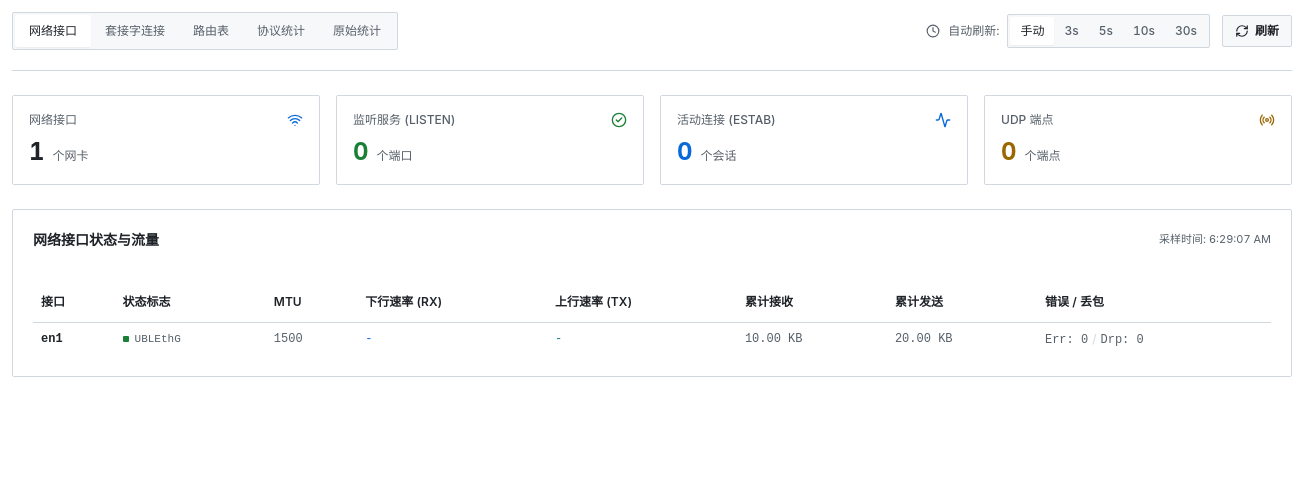
Scenario: NetworkView Component › filters sockets between LISTEN and connected via segmented buttons
What coordinates should you click on to do the following:
click the button "套接字连接"
I would click on:
 (135, 31)
Its box is [91,15,179,47].
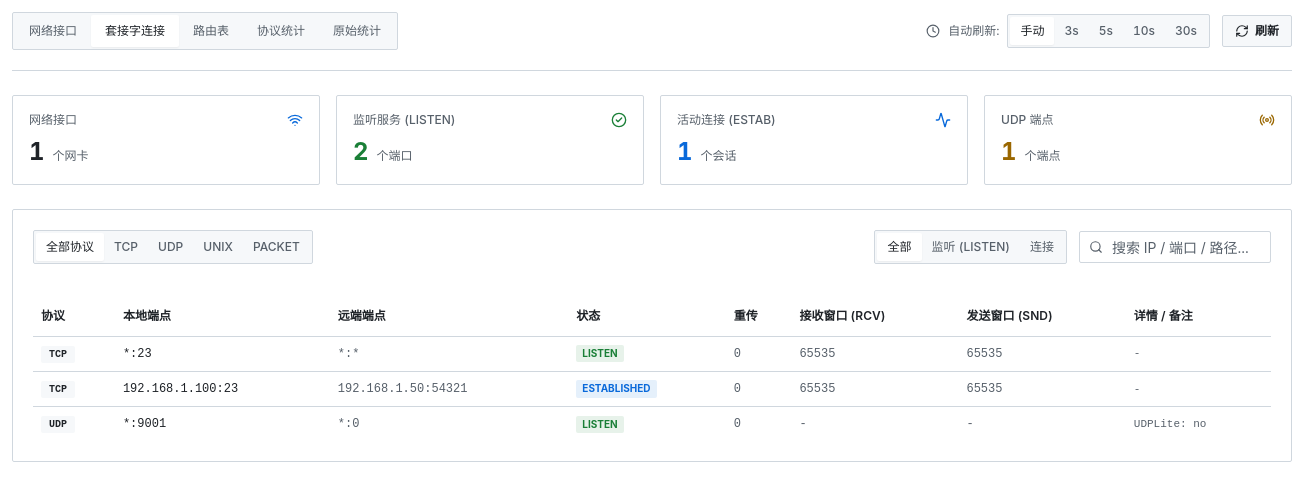
Expected: the text "*:23" is shown, [115,336,330,371]
Expected: the text "192.168.1.100:23" is shown, [115,371,330,407]
Expected: the text "*:9001" is shown, [115,407,330,442]
What coordinates should you click on to do the following:
click the button "监听 (LISTEN)"
I would click on:
 (971, 247)
Its box is [922,233,1020,261].
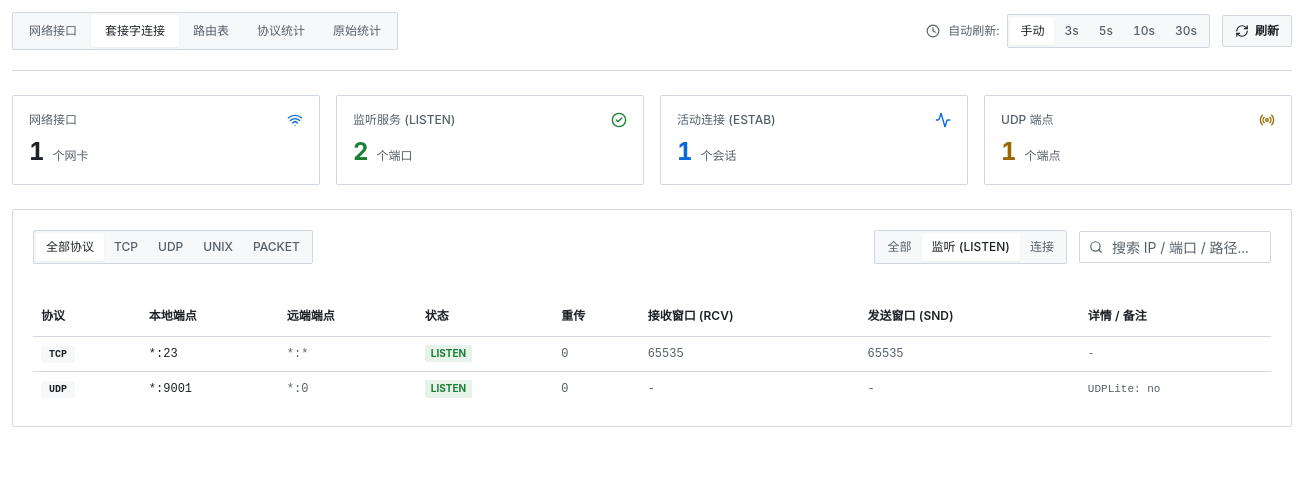
Expected: the text "*:23" is shown, [141,336,279,371]
Expected: the text "*:9001" is shown, [141,371,279,406]
Expected: the text "192.168.1.100:23" is gone
What coordinates should you click on to do the following:
click the button "连接"
I would click on:
 (1042, 247)
Its box is [1020,233,1064,261].
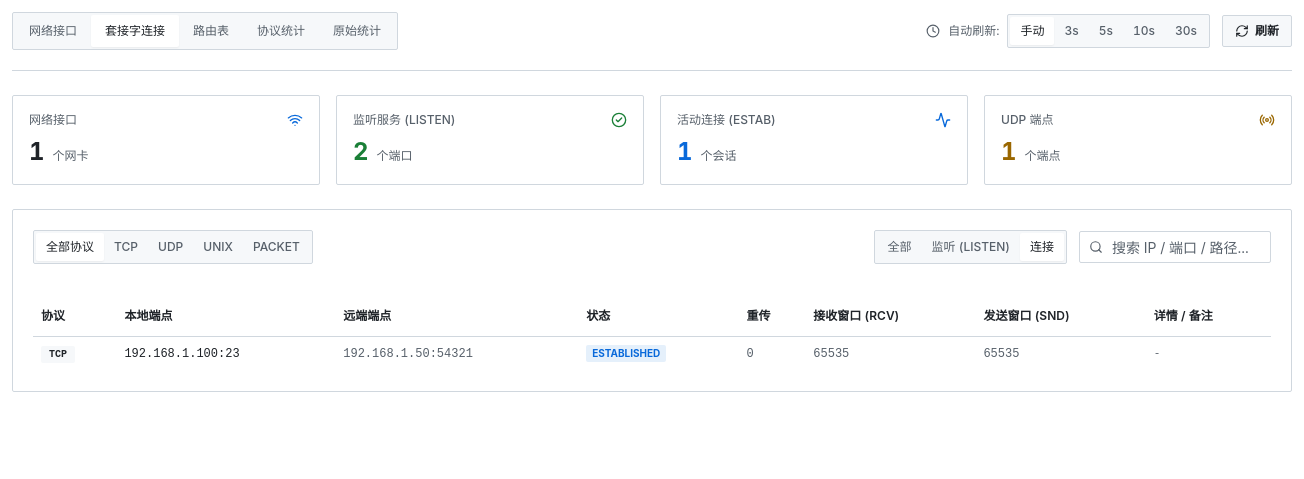
Expected: the text "*:23" is gone
Expected: the text "*:9001" is gone
Expected: the text "192.168.1.100:23" is shown, [116,336,335,371]
